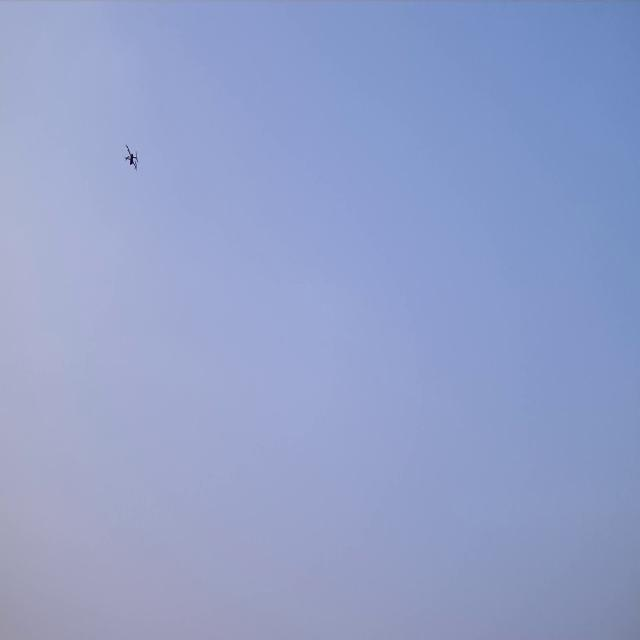UAV: (123, 138, 141, 172)
